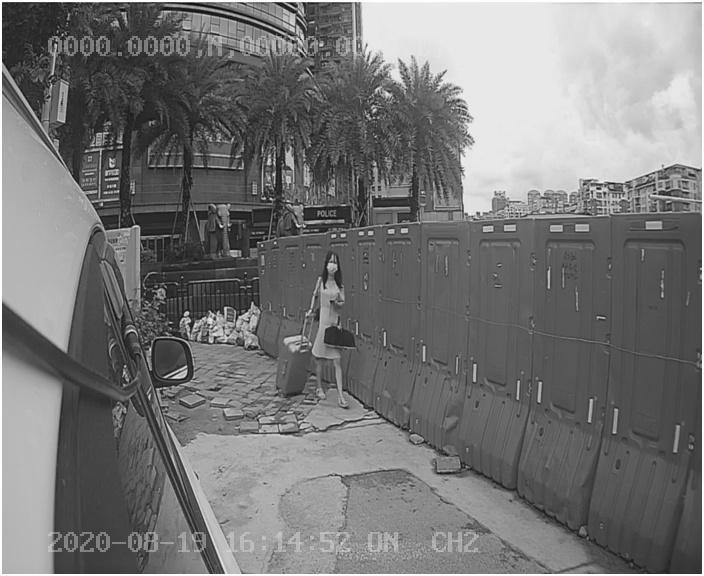person: (298, 248, 365, 417)
